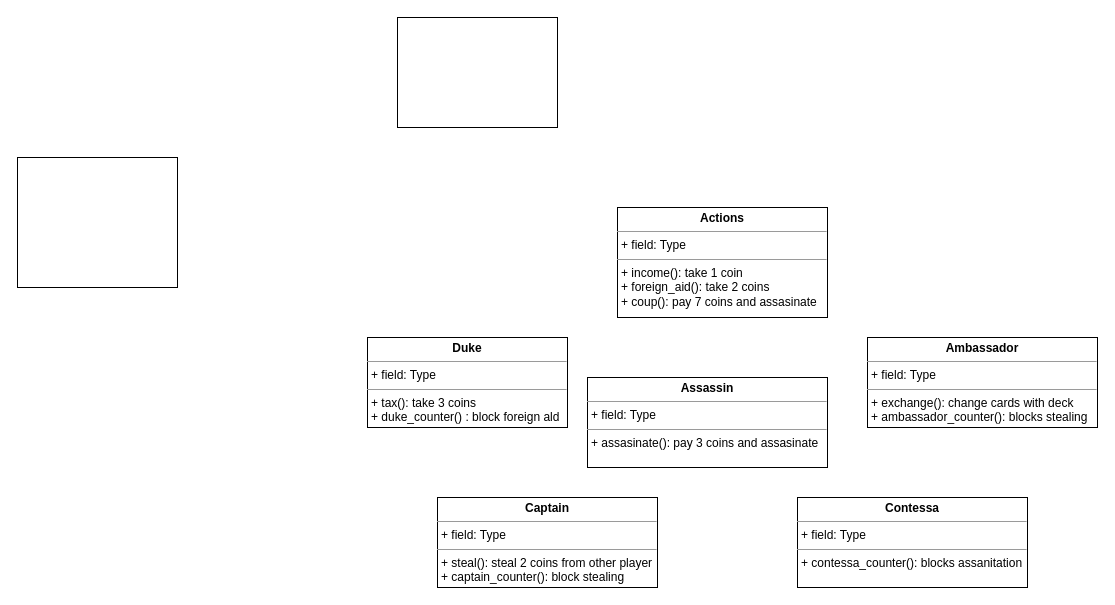
The diagram is 1115 pixels wide and 605 high, and some of its shapes have lost their labels. Here are the shapes that lost their labels. From the top down, the centre of each, then its label:
point (477, 72): Main + field: Type + create_player(): + shuffle_cards(): + show_game_status():
point (97, 222): Player -influence : int -coins: int + method(): Type
